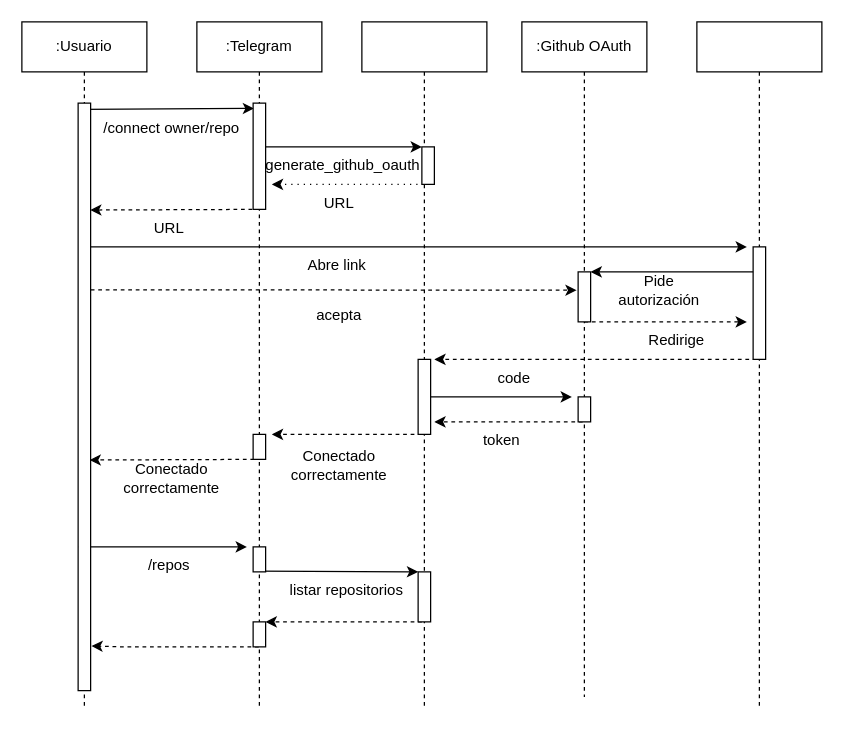
Image size: 844x731. Some labels were removed from this diagram. The shapes that lost their labels are listed below. From the top down, each one's centre as x and y in pixels, then its label:
At point 424,365: ":app servicioweb".
At point 759,365: ":navegador usuario".
